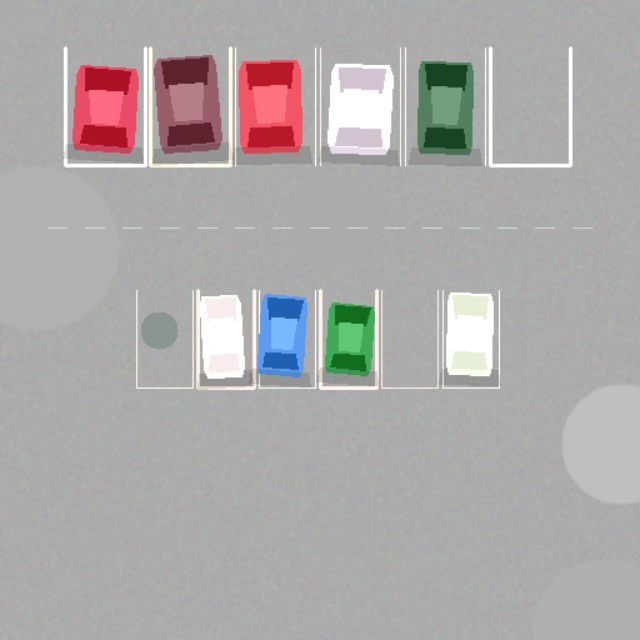space-empty: (490, 48, 570, 165), (136, 290, 193, 388), (381, 290, 437, 388)
space-occupied: (65, 48, 145, 165), (150, 48, 230, 165), (235, 48, 315, 165), (320, 48, 400, 165), (405, 48, 485, 165), (197, 290, 254, 388), (259, 290, 315, 388), (320, 290, 376, 388), (443, 290, 499, 388)
